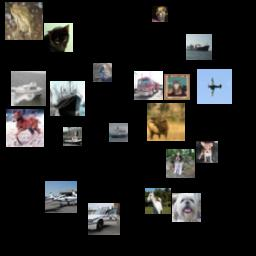airplane: (197, 69, 232, 104), (45, 181, 77, 213)
automobile: (88, 203, 120, 235)
bird: (93, 63, 112, 82)
cat: (44, 23, 73, 52), (164, 74, 190, 100)
deer: (147, 103, 185, 141)
dog: (166, 149, 195, 178), (172, 193, 201, 222), (196, 141, 218, 163), (152, 6, 168, 22)
frog: (5, 2, 43, 40)
ship: (11, 71, 46, 106), (50, 81, 85, 116), (186, 34, 212, 60), (109, 123, 128, 142), (63, 127, 82, 146)
truck: (134, 71, 163, 100)
